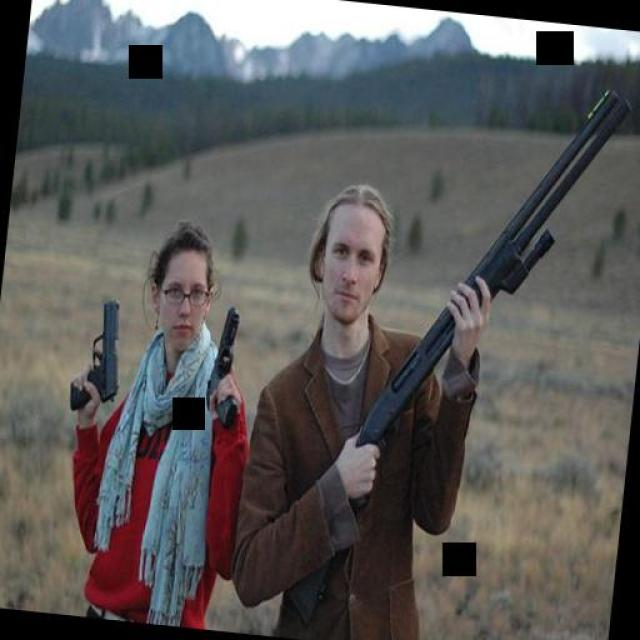gun: (65, 293, 129, 415), (197, 302, 245, 433)
